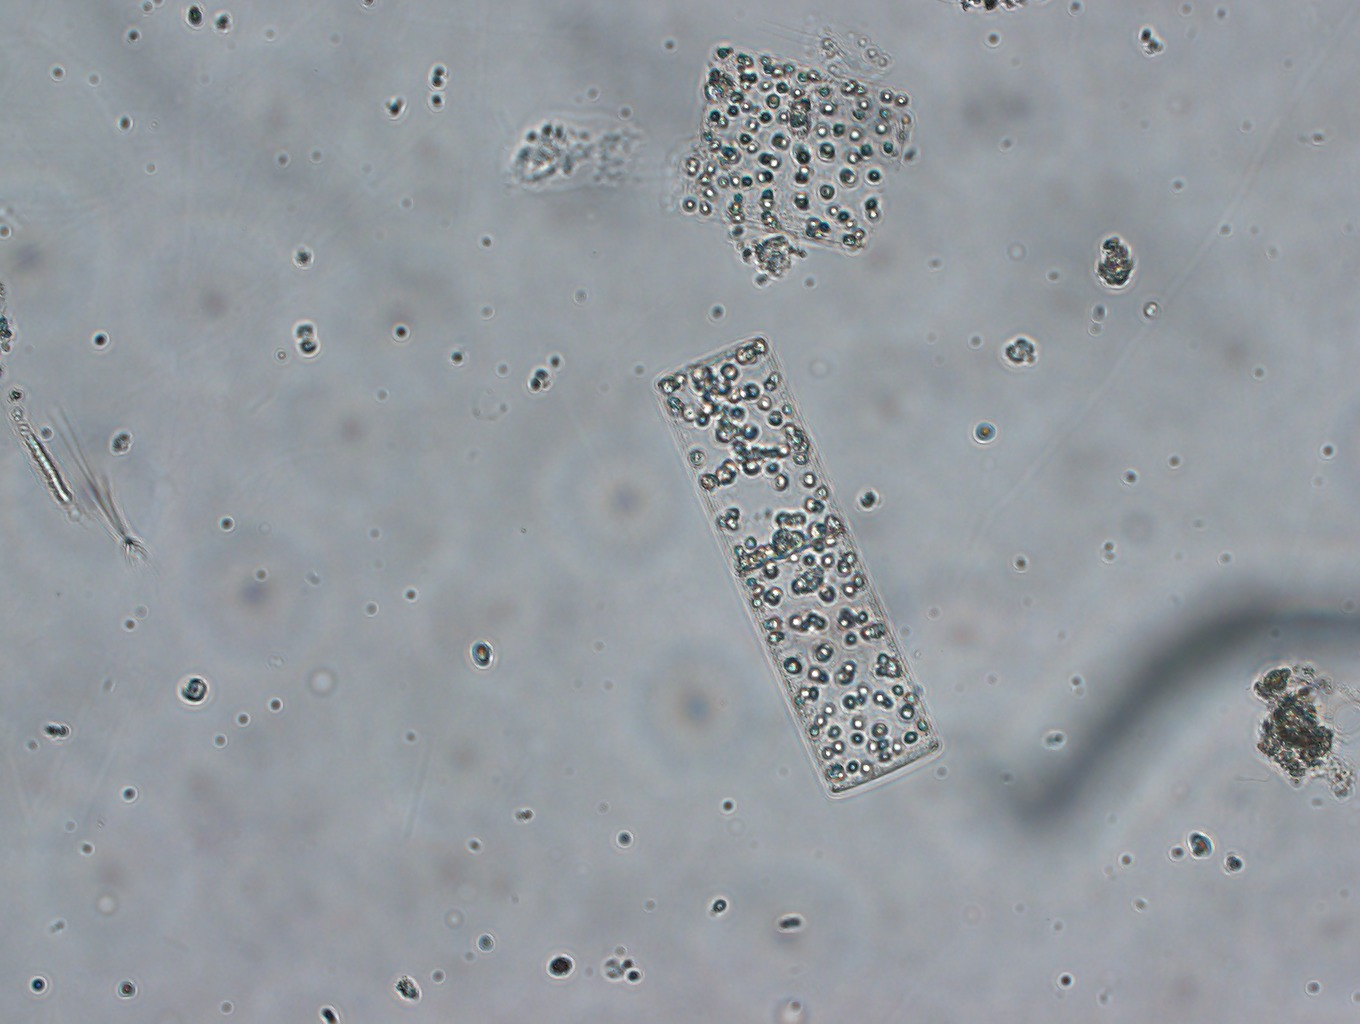guinardia flaccida: (635, 325, 949, 803), (653, 31, 917, 268)
